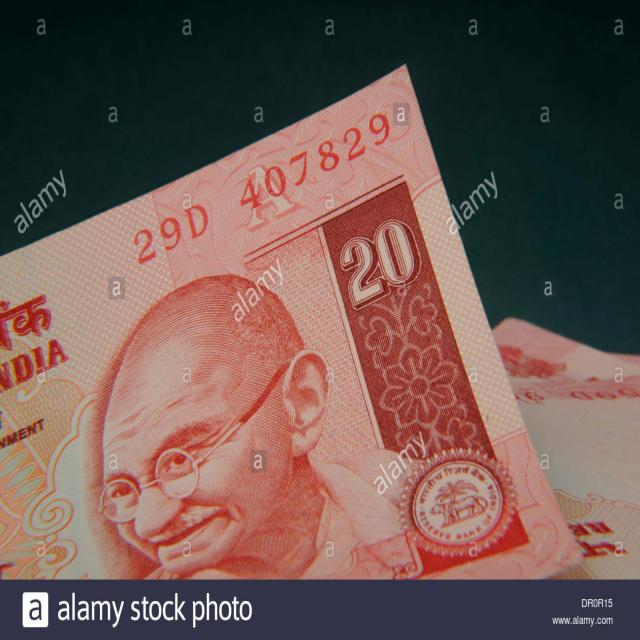20IndianRupees: (0, 67, 583, 576)
